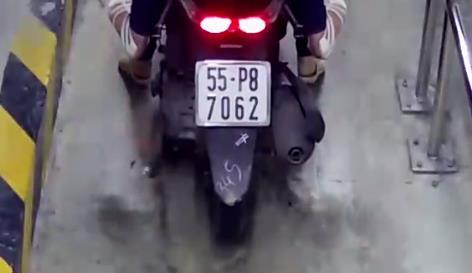lisence: (193, 59, 271, 127)
